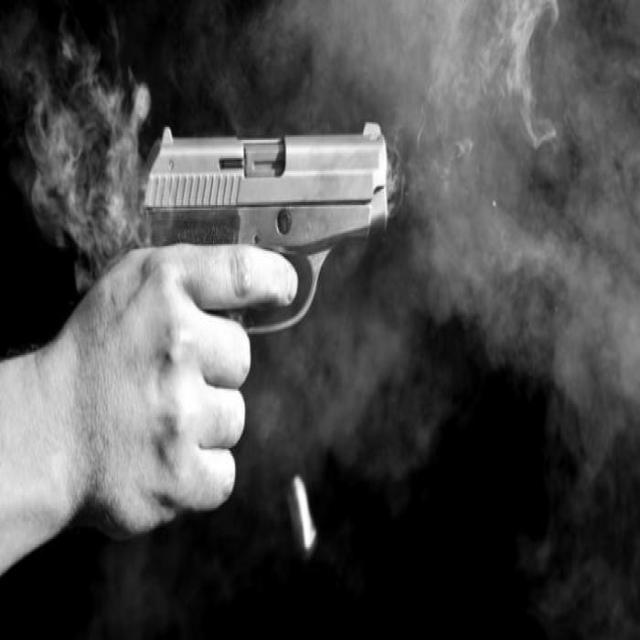handgun: (144, 117, 388, 381)
